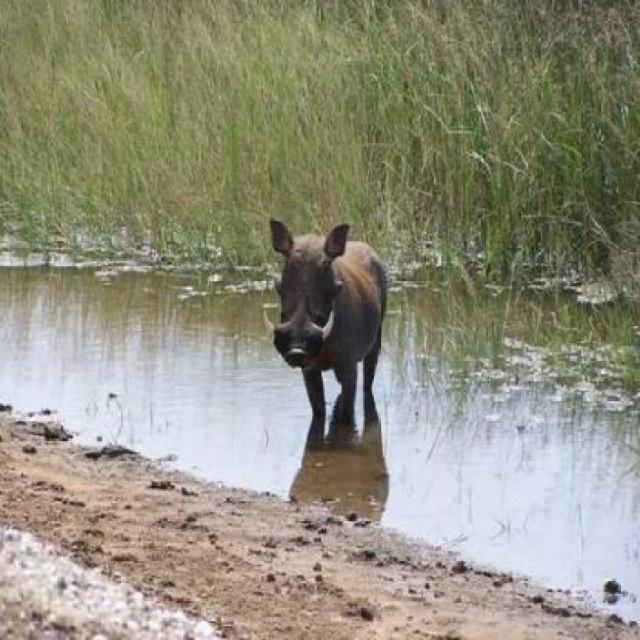pig: (255, 217, 440, 475)
